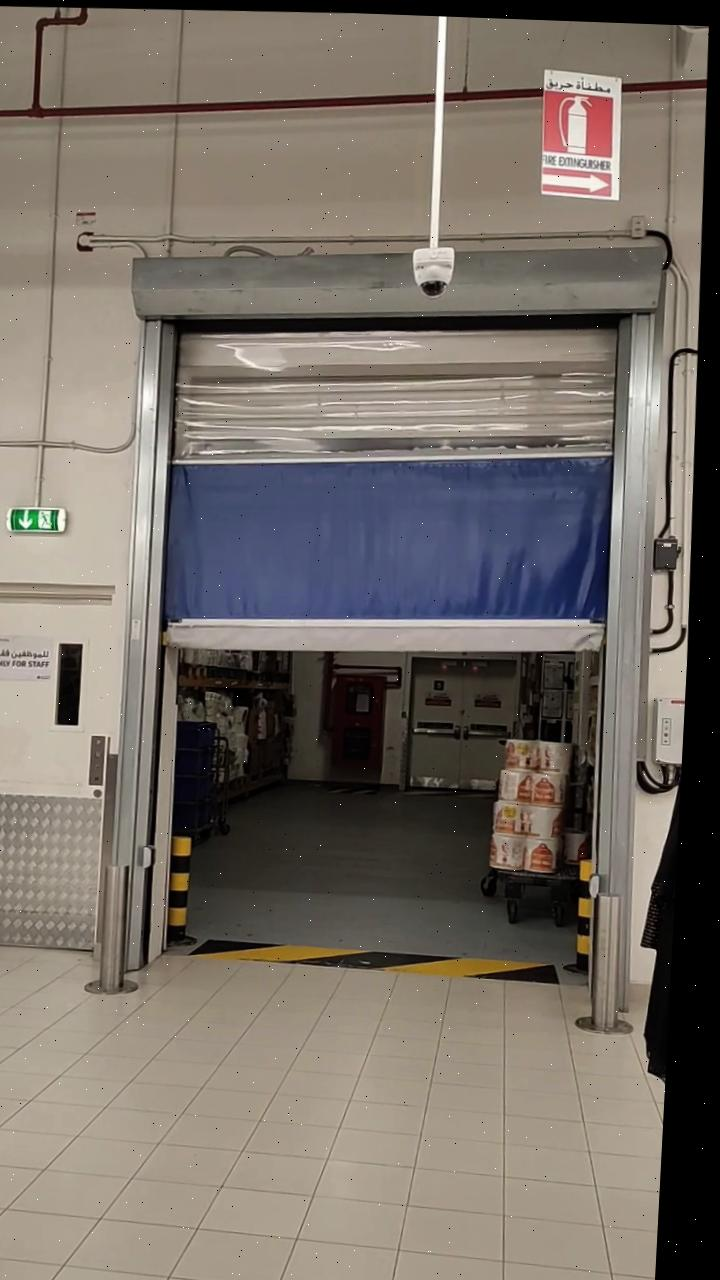Strip: (201, 920, 567, 991)
